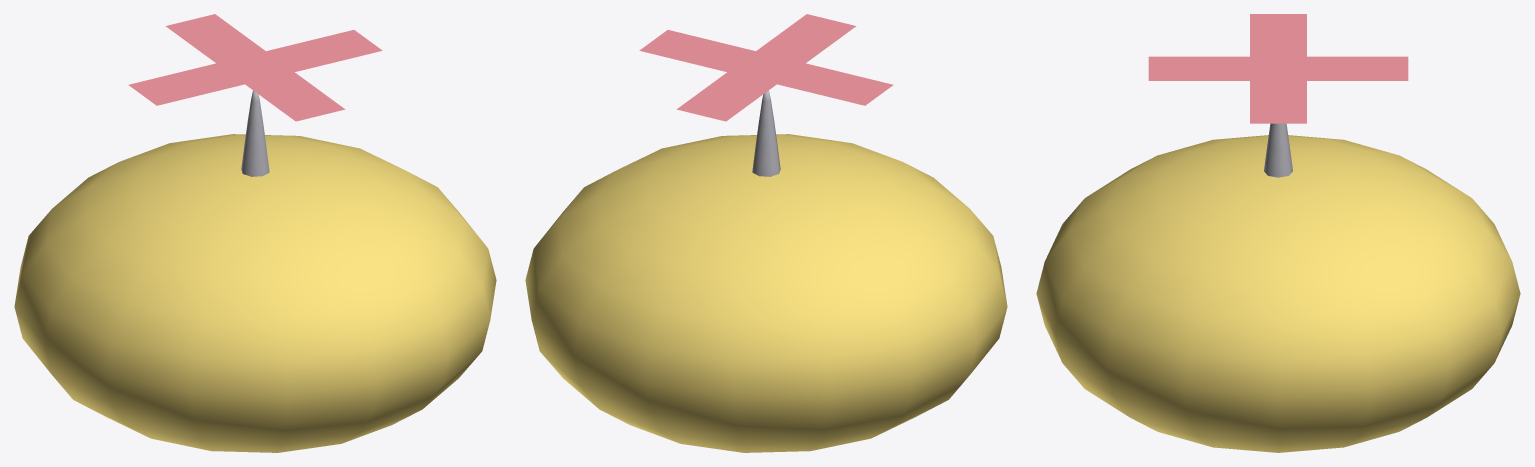
Rendered from hat_propeller.glb.
The picture shows the model from 3 angles, left to right: view 1: azimuth 30°, elevation 25°; view 2: azimuth 150°, elevation 25°; view 3: azimuth 270°, elevation 25°; orthographic projection.
Parts seen in each view (by area): view 1: HatPropeller; view 2: HatPropeller; view 3: HatPropeller.
Part boxes in pixels (x1=…): HatPropeller: x1=14, y1=14, x2=496, y2=452; HatPropeller: x1=525, y1=14, x2=1007, y2=452; HatPropeller: x1=1036, y1=14, x2=1520, y2=452.
Bounding box in the file's own units: 0.41 × 0.325 × 0.41.
